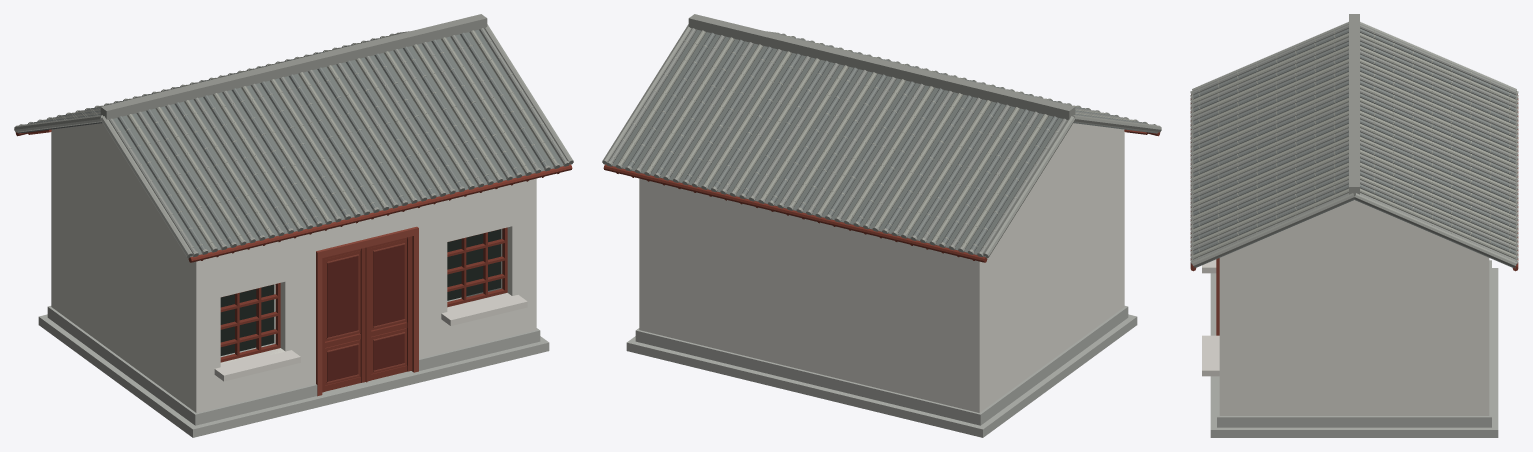
Rendered from chongming-xiangxian-shrine-raw.glb.
3 views of the same model, side by side, from view 1: azimuth 30°, elevation 25°; view 2: azimuth 150°, elevation 25°; view 3: azimuth 270°, elevation 25° (orthographic). The views are drawn at different scales.
Parts seen in each view (by area): view 1: 崇明学宫乡贤祠（文字尺寸参照候选）; view 2: 崇明学宫乡贤祠（文字尺寸参照候选）; view 3: 崇明学宫乡贤祠（文字尺寸参照候选）.
Part boxes in pixels (x1,y1,x2,y2): 崇明学宫乡贤祠（文字尺寸参照候选）: (14, 14, 573, 437); 崇明学宫乡贤祠（文字尺寸参照候选）: (602, 14, 1161, 437); 崇明学宫乡贤祠（文字尺寸参照候选）: (1190, 14, 1518, 437).
Bounding box in the file's own units: 9.55 × 6.5 × 7.54.
